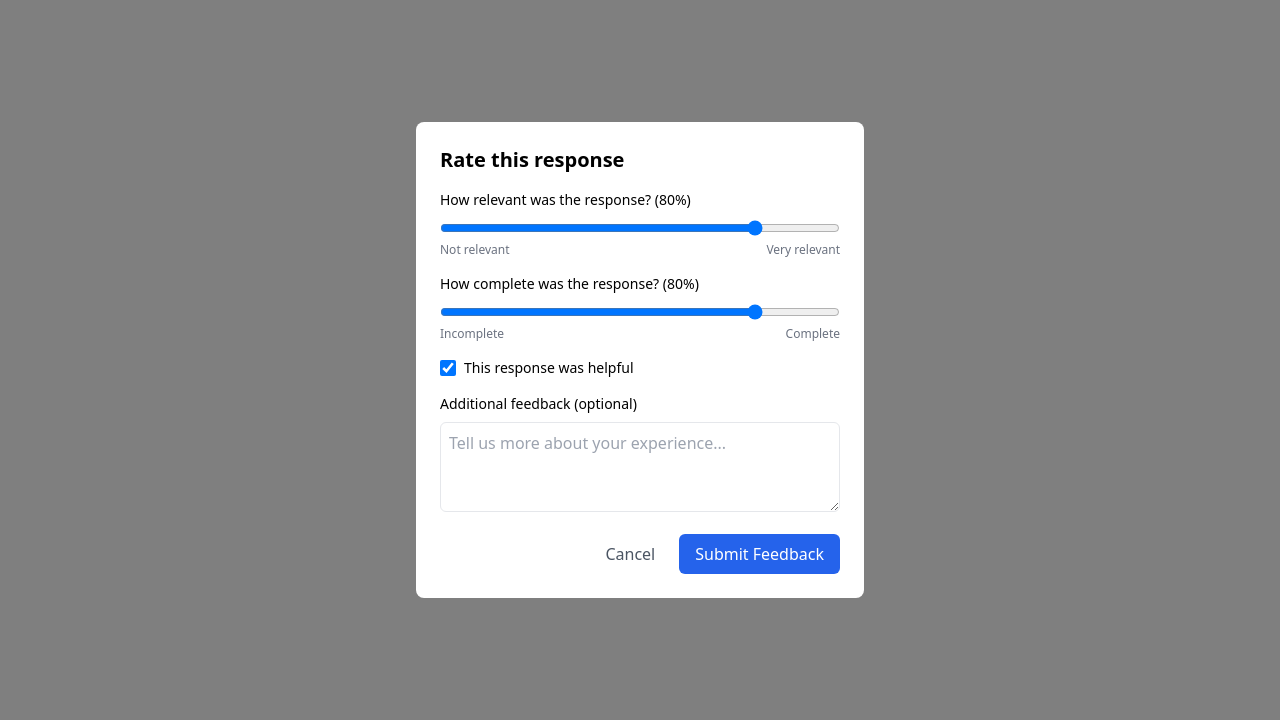
FeedbackModal › updates completeness score on slider change
This screenshot has width=1280, height=720.
Set the slider below "How complete was the response? (" to "0.6" at (678,312), box left=440, top=304, right=840, bottom=320
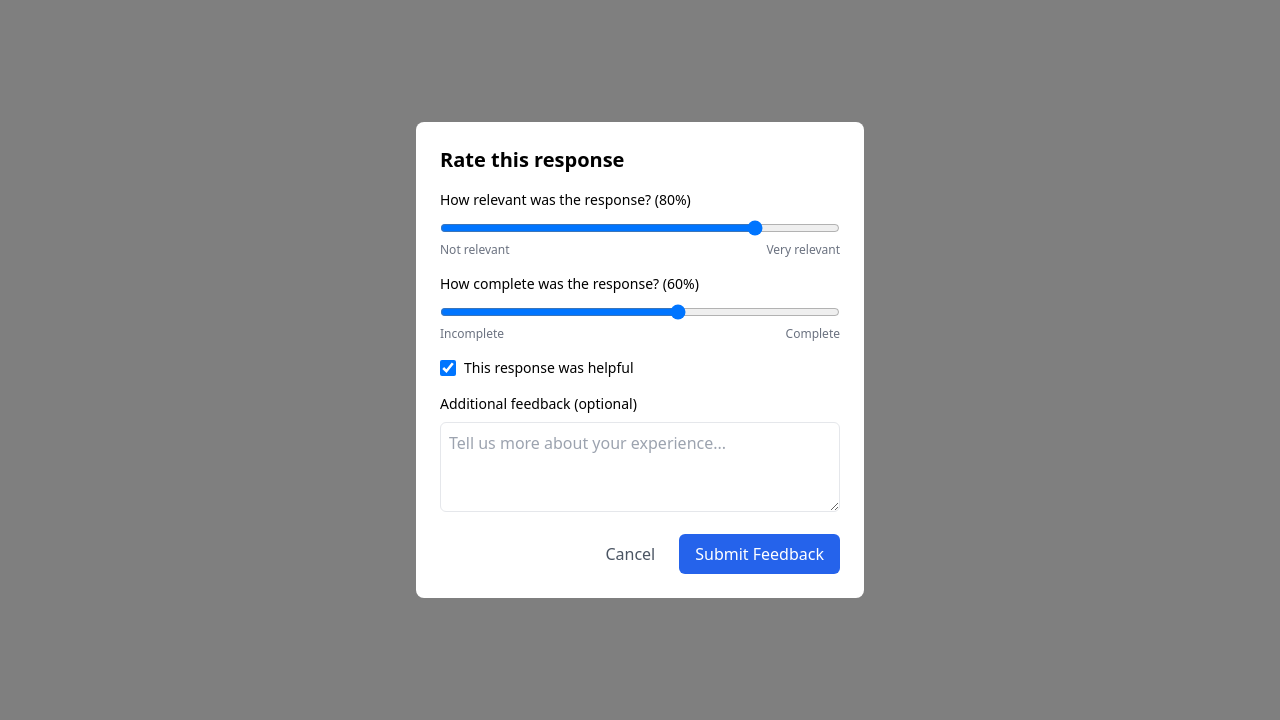
Now the text "How complete was the response? (60%)" is shown, box left=440, top=274, right=699, bottom=293
